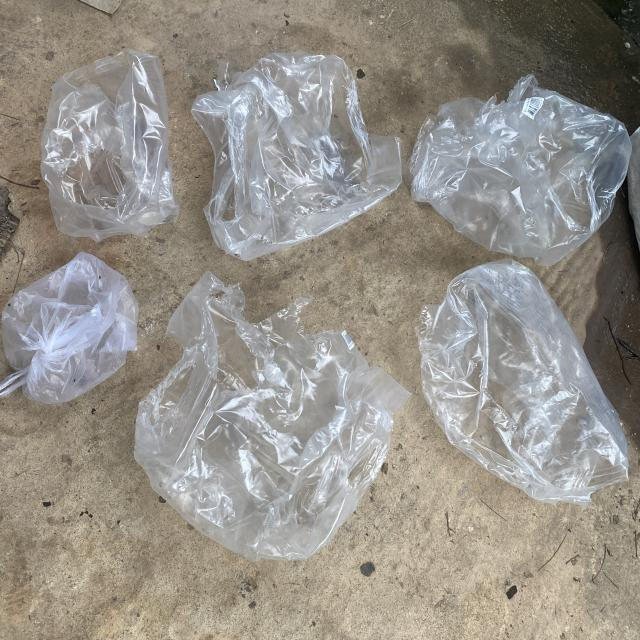Single-layer Plastic: (135, 272, 410, 560), (416, 259, 629, 505), (191, 51, 401, 260), (408, 74, 631, 266), (41, 49, 179, 241), (0, 252, 139, 404)
